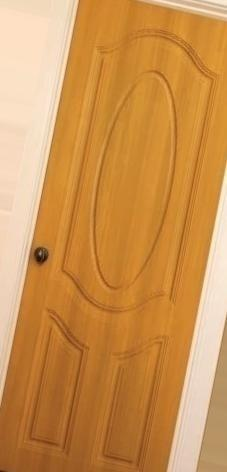door: (3, 1, 227, 472)
